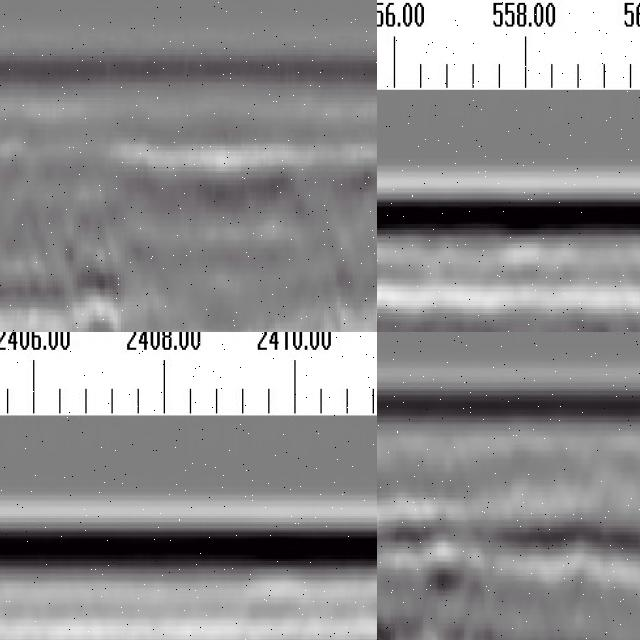crack: (74, 151, 118, 333)
loose: (378, 498, 533, 640)
